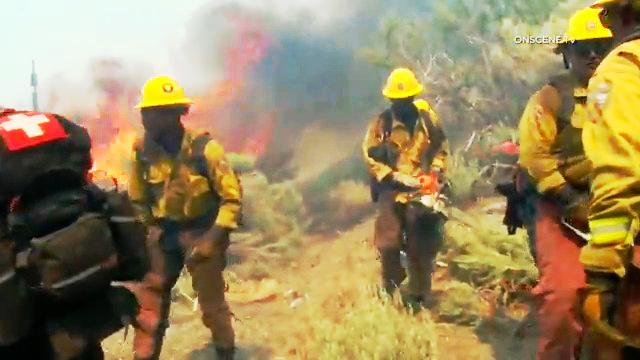fire: (95, 110, 132, 168)
smoke: (212, 18, 342, 110)
